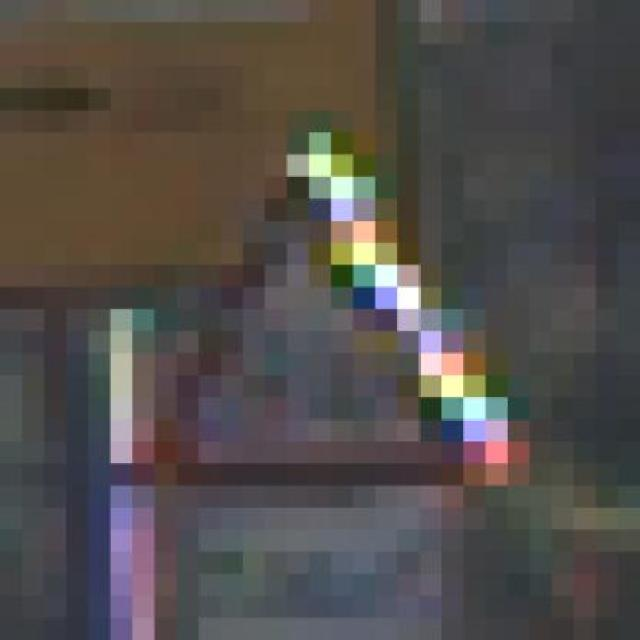CYCLE ROUTE AHEAD WARNING: (88, 132, 508, 508)
